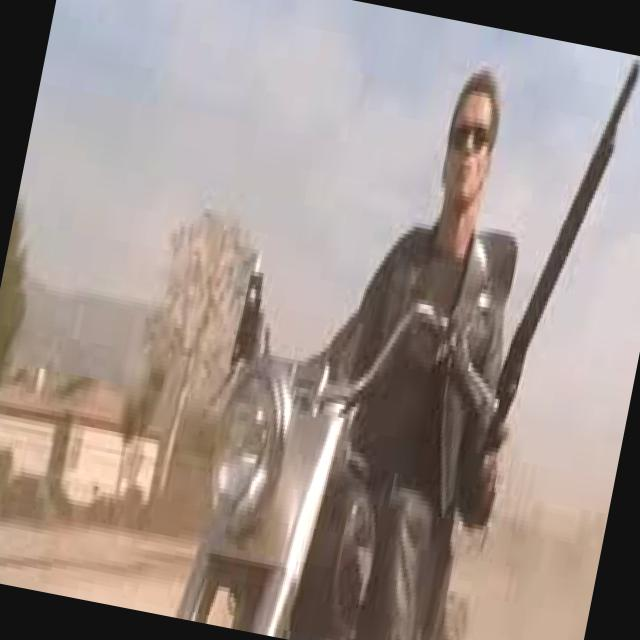long weapon: (490, 56, 640, 443)
